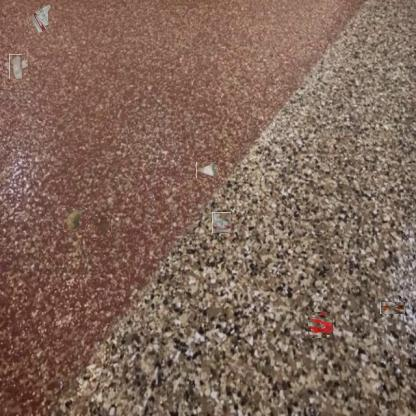dirty: (29, 2, 52, 34), (63, 207, 87, 232), (212, 212, 231, 233), (196, 162, 219, 178), (6, 57, 25, 76), (380, 302, 405, 314)
liquid: (309, 314, 331, 337), (91, 216, 111, 240)
